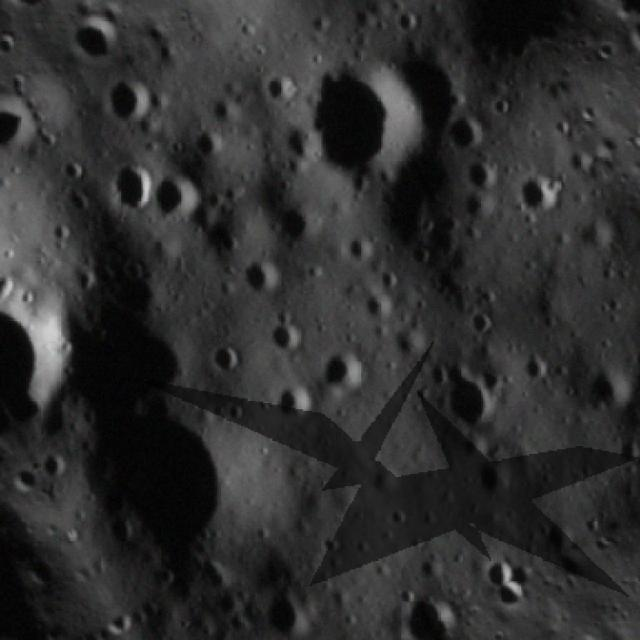crater: (65, 376, 270, 593), (286, 44, 442, 204), (0, 261, 89, 419), (376, 18, 487, 136), (429, 356, 509, 438), (99, 148, 168, 223), (137, 156, 208, 227), (304, 338, 376, 405), (505, 158, 572, 224), (96, 64, 161, 130), (256, 301, 318, 367), (252, 578, 317, 640), (270, 114, 330, 178), (264, 186, 324, 249), (0, 145, 23, 298), (577, 357, 635, 414), (434, 105, 494, 160), (461, 448, 516, 502), (0, 108, 49, 164), (266, 376, 316, 426), (237, 250, 285, 302), (255, 59, 302, 112), (510, 341, 558, 390), (470, 550, 519, 596), (456, 150, 502, 198), (357, 282, 401, 327), (340, 222, 383, 266), (390, 316, 432, 359), (33, 442, 73, 483), (204, 338, 242, 374), (463, 301, 495, 337), (112, 600, 140, 638)
